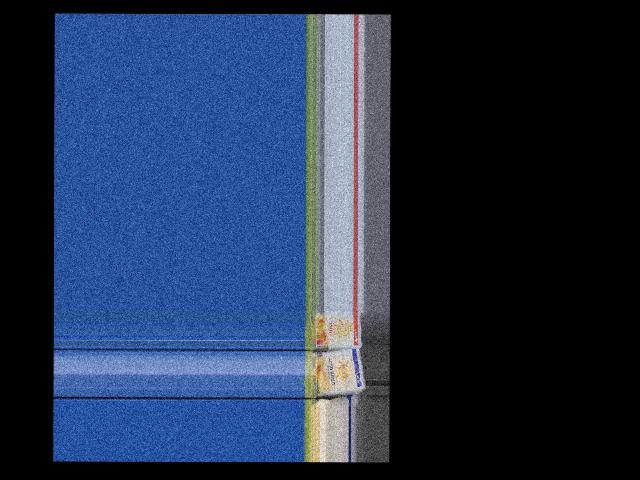cheese: (304, 309, 364, 348)
